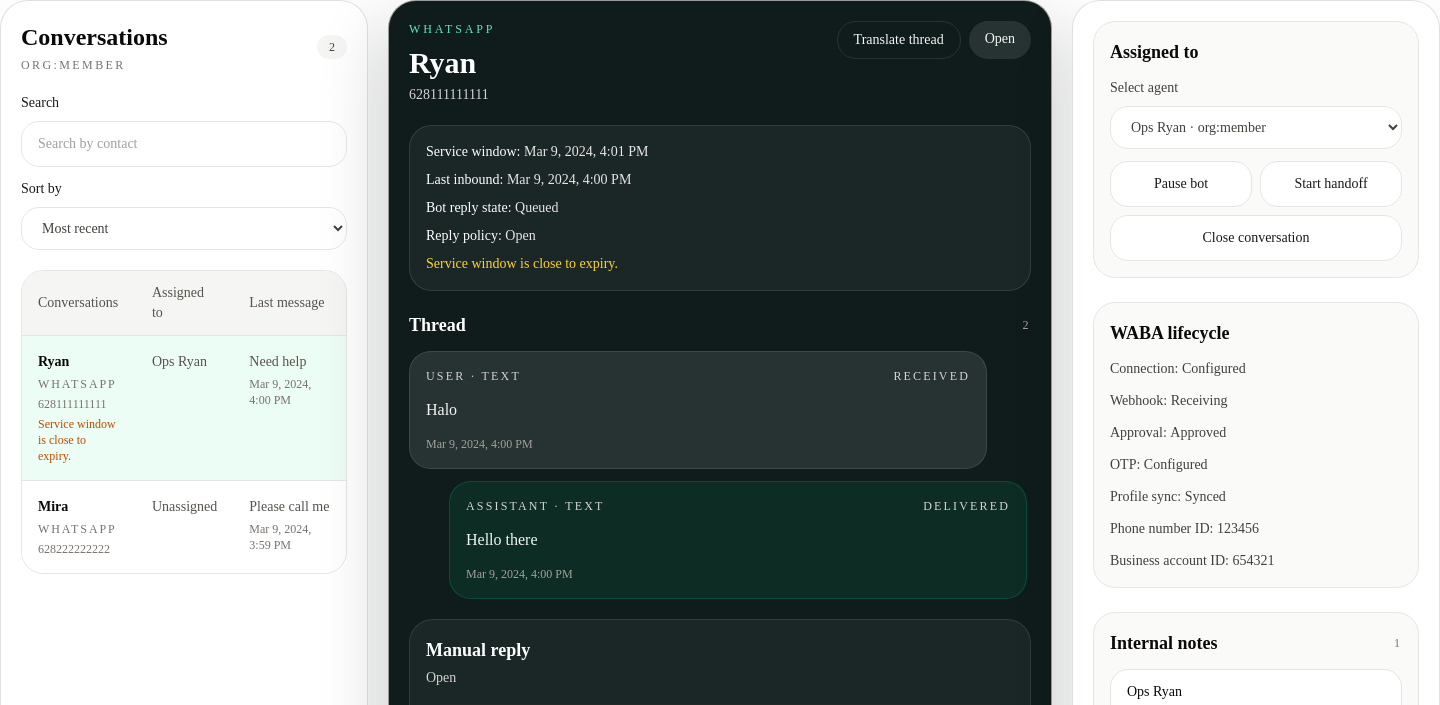
Test: Phase 10 inbox workspace › filters the conversation list by search query
In the field labelled "Search": (184, 144) [21,121,347,167], type "Mira"
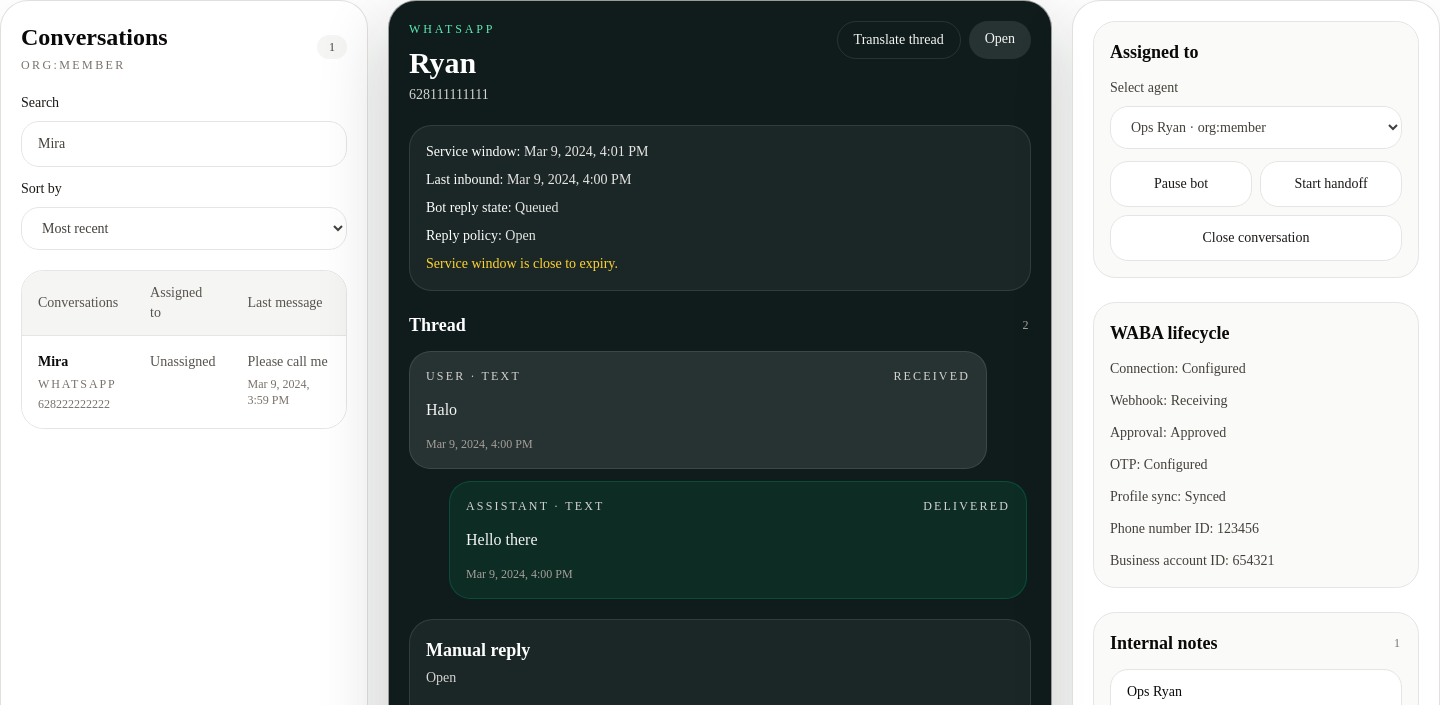
Expected: the row with test id "conversation-row-conversation_2" is shown, [22,336,346,428]
Result: the row with test id "conversation-row-conversation_1" is gone
